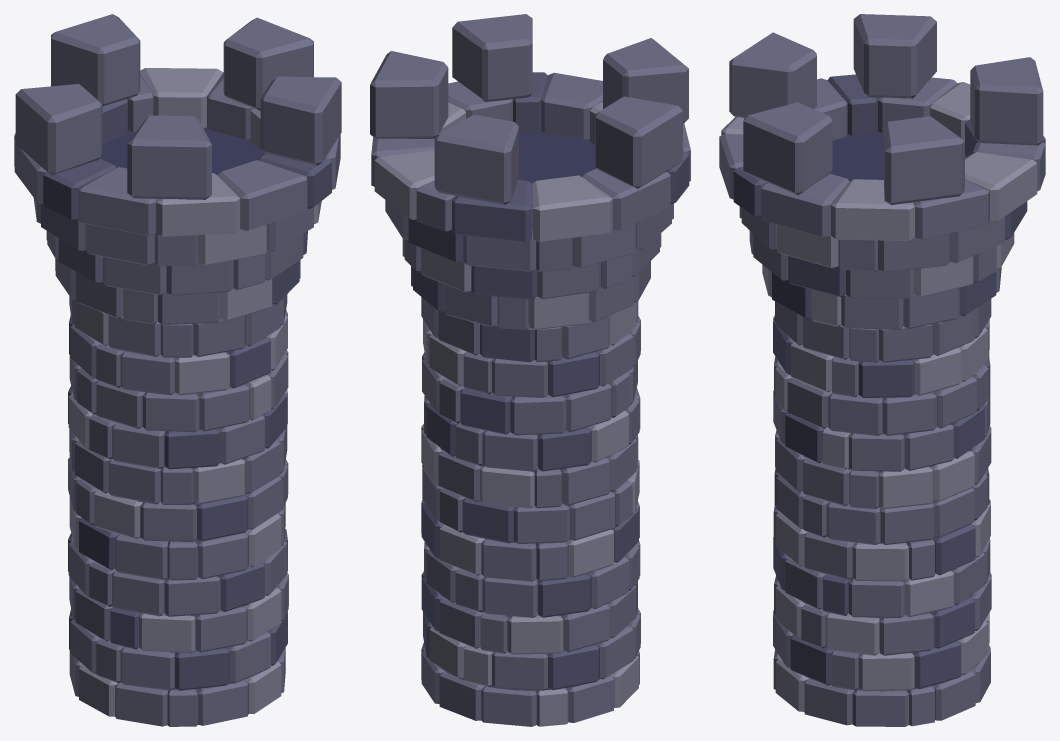
File: dr_castle.fbx
3 renders of one model, left to right at view 1: azimuth 30°, elevation 25°; view 2: azimuth 150°, elevation 25°; view 3: azimuth 270°, elevation 25°, orthographic.
Visible parts, largest first — view 1: Castle.016, Castle.015, Castle.006, Castle.009, Castle.010, Castle.008, Castle.002, Castle.004, Castle.005, Castle.003, Castle.014, Castle.001 (+4 smaller); view 2: Castle.016, Castle.015, Castle.005, Castle.009, Castle.003, Castle.002, Castle.007, Castle.004, Castle.014, Castle.006, Castle.008, Castle.001 (+4 smaller); view 3: Castle.016, Castle.015, Castle.009, Castle.005, Castle.003, Castle.007, Castle.001, Castle.014, Castle.004, Castle.002, Castle.010, Castle.008 (+4 smaller).
Part boxes in pixels (x1=…): Castle.016: x1=15, y1=14, x2=341, y2=199; Castle.015: x1=14, y1=68, x2=340, y2=236; Castle.006: x1=68, y1=455, x2=288, y2=542; Castle.009: x1=69, y1=350, x2=288, y2=432; Castle.010: x1=69, y1=310, x2=287, y2=395; Castle.008: x1=68, y1=386, x2=287, y2=469; Castle.002: x1=69, y1=609, x2=287, y2=690; Castle.004: x1=68, y1=529, x2=287, y2=616; Castle.005: x1=69, y1=496, x2=285, y2=580; Castle.003: x1=69, y1=572, x2=288, y2=652; Castle.014: x1=33, y1=198, x2=321, y2=266; Castle.001: x1=69, y1=648, x2=285, y2=726; Castle.016: x1=370, y1=14, x2=688, y2=204; Castle.015: x1=371, y1=72, x2=690, y2=242; Castle.005: x1=421, y1=499, x2=639, y2=581; Castle.009: x1=422, y1=352, x2=637, y2=435; Castle.003: x1=421, y1=571, x2=637, y2=654; Castle.002: x1=423, y1=608, x2=640, y2=690; Castle.007: x1=421, y1=424, x2=638, y2=508; Castle.004: x1=424, y1=541, x2=640, y2=617; Castle.014: x1=385, y1=200, x2=673, y2=271; Castle.006: x1=422, y1=460, x2=639, y2=544; Castle.008: x1=424, y1=388, x2=640, y2=471; Castle.001: x1=421, y1=642, x2=639, y2=726; Castle.016: x1=729, y1=14, x2=1043, y2=205; Castle.015: x1=719, y1=74, x2=1045, y2=240; Castle.009: x1=774, y1=356, x2=990, y2=435; Castle.005: x1=773, y1=499, x2=990, y2=581; Castle.003: x1=774, y1=571, x2=991, y2=655; Castle.007: x1=775, y1=426, x2=991, y2=508; Castle.001: x1=773, y1=646, x2=990, y2=726; Castle.014: x1=739, y1=201, x2=1027, y2=272; Castle.004: x1=773, y1=537, x2=990, y2=618; Castle.002: x1=773, y1=610, x2=989, y2=691; Castle.010: x1=773, y1=315, x2=989, y2=397; Castle.008: x1=773, y1=390, x2=990, y2=471.
Bounding box in the file's own units: 3.13 × 6.4 × 3.15.
